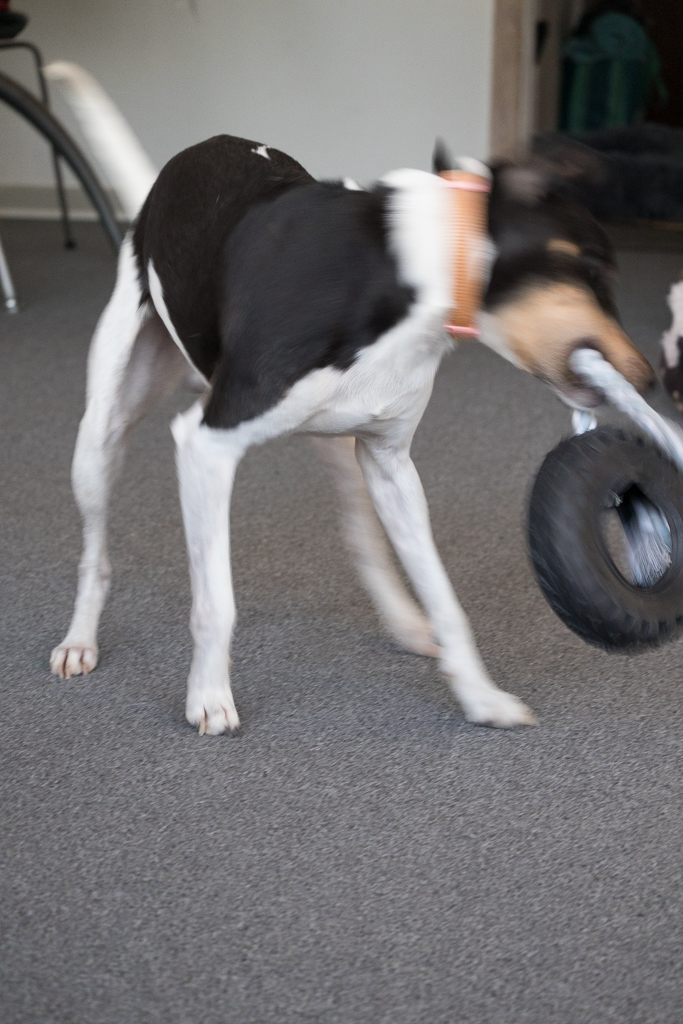Dog: (33, 54, 672, 746)
